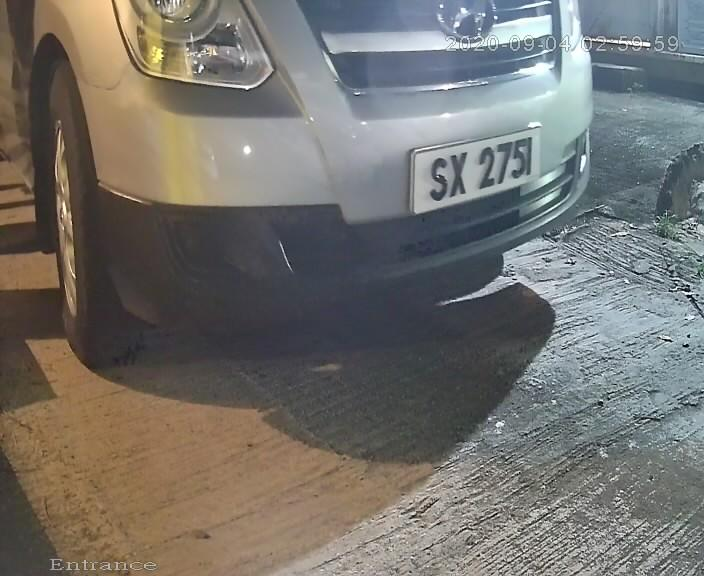License Plate: (393, 116, 551, 222)
